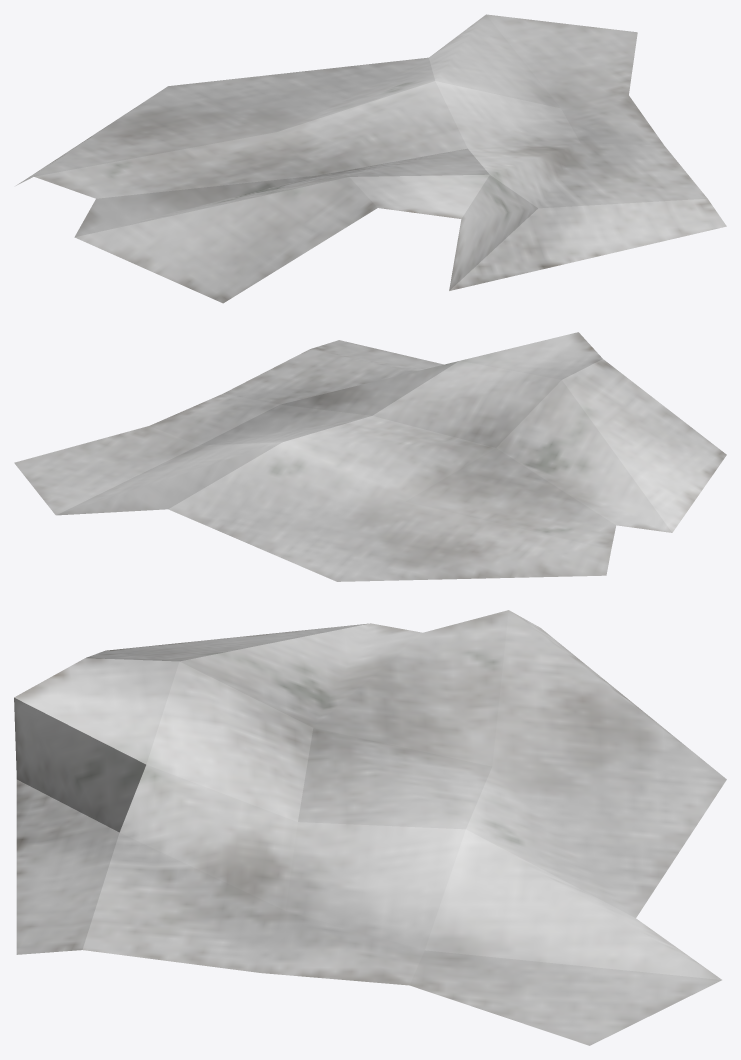
The model's file is Rag_2.fbx.
The picture shows the model from 3 angles, top to bottom: view 1: azimuth 30°, elevation 25°; view 2: azimuth 150°, elevation 25°; view 3: azimuth 270°, elevation 25°; orthographic projection. The views are drawn at different scales.
Visible parts, largest first — view 1: Rag_2; view 2: Rag_2; view 3: Rag_2.
Boxes of the visible parts, bbox=[...] form: Rag_2: bbox=[16, 14, 726, 303]; Rag_2: bbox=[14, 332, 726, 581]; Rag_2: bbox=[14, 610, 726, 1045].
Size of the model in its own units: 110 by 13.62 by 82.9.
